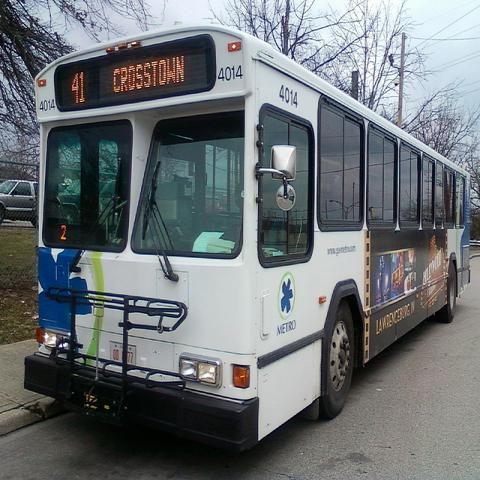bus: (24, 30, 474, 455)
truck: (0, 180, 39, 230)
